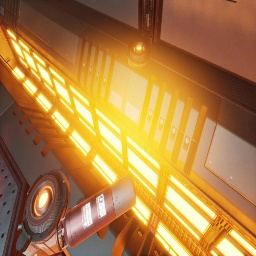NitrogenTank ,: (55, 173, 136, 252)
